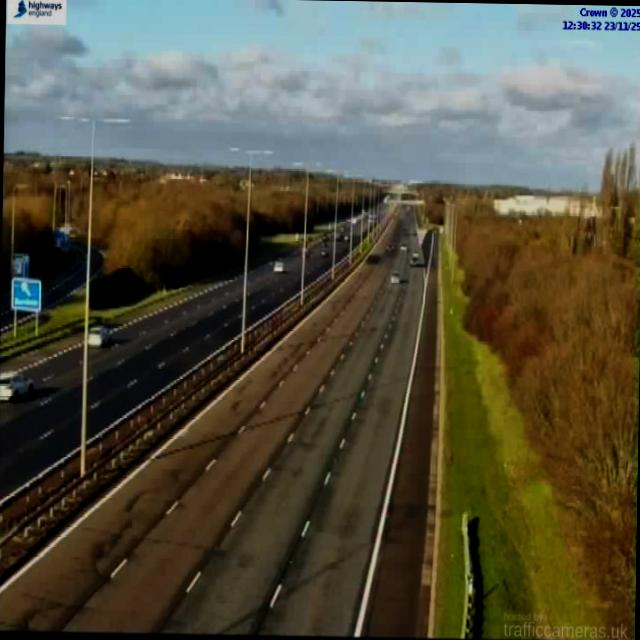foliage: (457, 214, 637, 628), (93, 180, 245, 290), (0, 186, 62, 297), (251, 184, 295, 250)
